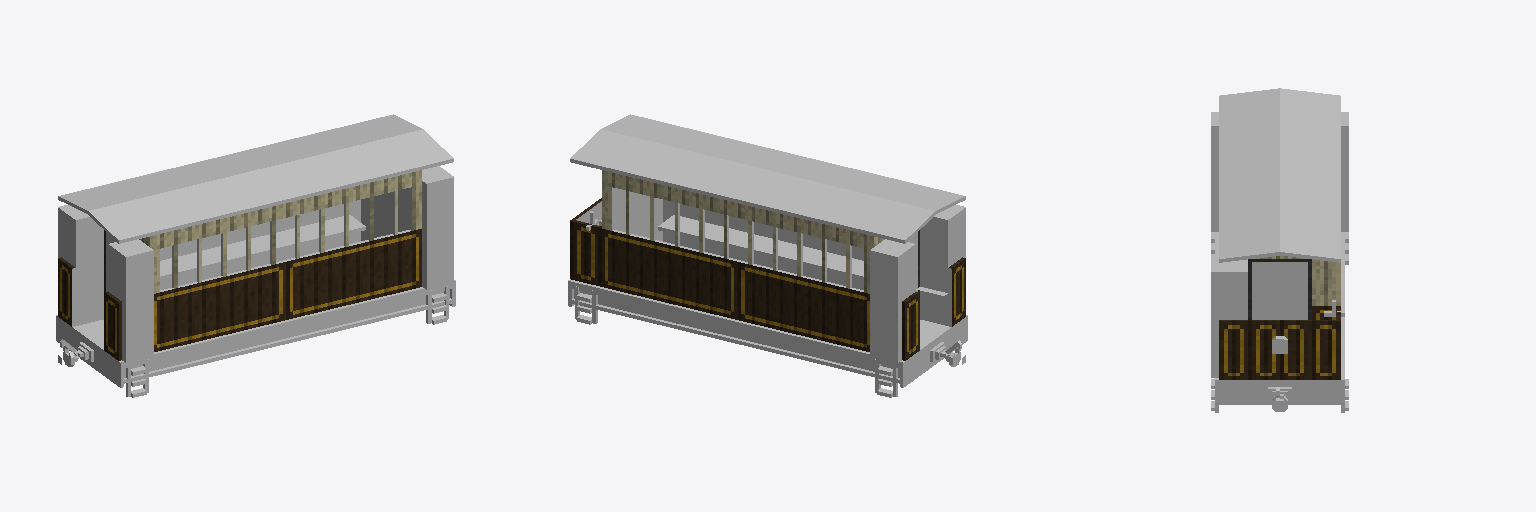
3 renders of one model, left to right at view 1: azimuth 30°, elevation 25°; view 2: azimuth 150°, elevation 25°; view 3: azimuth 270°, elevation 25°, orthographic.
Parts seen in each view (by area): view 1: SHELL_WOOD_roof_Cube.013, SHELL_WOOD.001_Cube.045, SHELL_WOOD_Cube.047, DOOR_7_Cube.022, SHELL_WOOD_INTERIOR.001_Cube.044, DOOR_6_Cube.015, DOOR_8_Cube.001, FRAME.001_Cube.057, FRAME_Cube.068, FRAME_cab_Cube.056, SHELL_WOOD.002_Cube.048, SHELL_WOOD_cab_roof_Cube.016 (+3 smaller); view 2: SHELL_WOOD_roof_Cube.013, SHELL_WOOD.001_Cube.045, SHELL_WOOD_Cube.047, DOOR_6_Cube.015, SHELL_WOOD_INTERIOR.001_Cube.044, DOOR_7_Cube.022, FRAME.001_Cube.057, FRAME_Cube.068, FRAME_cab_Cube.056, SHELL_WOOD.002_Cube.048, SHELL_WOOD_cab.001_Cube.043, SHELL_WOOD_cab_roof_Cube.016 (+4 smaller); view 3: SHELL_WOOD_roof_Cube.013, SHELL_WOOD_cab.001_Cube.043, FRAME_cab.001_Cube.054, DOOR_8_Cube.001, SHELL_WOOD_cab_roof.001_Cube.014, SHELL_WOOD_cab_roof_Cube.016, DOOR_4_Cube.039, DOOR_3_Cube.038, DOOR_6_Cube.015, DOOR_7_Cube.022.
Boxes of the visible parts, box(x1,y1,x2,y2) form: SHELL_WOOD_roof_Cube.013: box(92, 123, 420, 235); SHELL_WOOD.001_Cube.045: box(285, 170, 420, 319); SHELL_WOOD_Cube.047: box(152, 203, 285, 351); DOOR_7_Cube.022: box(108, 239, 153, 362); SHELL_WOOD_INTERIOR.001_Cube.044: box(228, 188, 409, 273); DOOR_6_Cube.015: box(58, 205, 103, 325); DOOR_8_Cube.001: box(422, 166, 453, 289); FRAME.001_Cube.057: box(286, 287, 422, 343); FRAME_Cube.068: box(152, 320, 287, 375); FRAME_cab_Cube.056: box(56, 315, 153, 397); SHELL_WOOD.002_Cube.048: box(58, 230, 151, 360); SHELL_WOOD_cab_roof_Cube.016: box(58, 188, 151, 243); SHELL_WOOD_roof_Cube.013: box(603, 123, 931, 235); SHELL_WOOD.001_Cube.045: box(603, 170, 738, 319); SHELL_WOOD_Cube.047: box(738, 203, 871, 351); DOOR_6_Cube.015: box(870, 239, 915, 362); SHELL_WOOD_INTERIOR.001_Cube.044: box(614, 188, 795, 273); DOOR_7_Cube.022: box(920, 205, 965, 325); FRAME.001_Cube.057: box(601, 287, 737, 343); FRAME_Cube.068: box(736, 320, 871, 375); FRAME_cab_Cube.056: box(870, 315, 967, 397); SHELL_WOOD.002_Cube.048: box(872, 230, 965, 360); SHELL_WOOD_cab.001_Cube.043: box(570, 170, 602, 286); SHELL_WOOD_cab_roof_Cube.016: box(872, 188, 965, 243); SHELL_WOOD_roof_Cube.013: box(1219, 105, 1340, 242); SHELL_WOOD_cab.001_Cube.043: box(1219, 256, 1340, 379); FRAME_cab.001_Cube.054: box(1211, 364, 1348, 412); DOOR_8_Cube.001: box(1211, 259, 1247, 377); SHELL_WOOD_cab_roof.001_Cube.014: box(1219, 236, 1340, 262); SHELL_WOOD_cab_roof_Cube.016: box(1219, 88, 1340, 111); DOOR_4_Cube.039: box(1252, 262, 1279, 319); DOOR_3_Cube.038: box(1280, 262, 1307, 319); DOOR_6_Cube.015: box(1341, 112, 1348, 231); DOOR_7_Cube.022: box(1211, 112, 1218, 231).
Bounding box in the file's own units: 7 × 2.94 × 2.12.
4 materials, 1 textured.